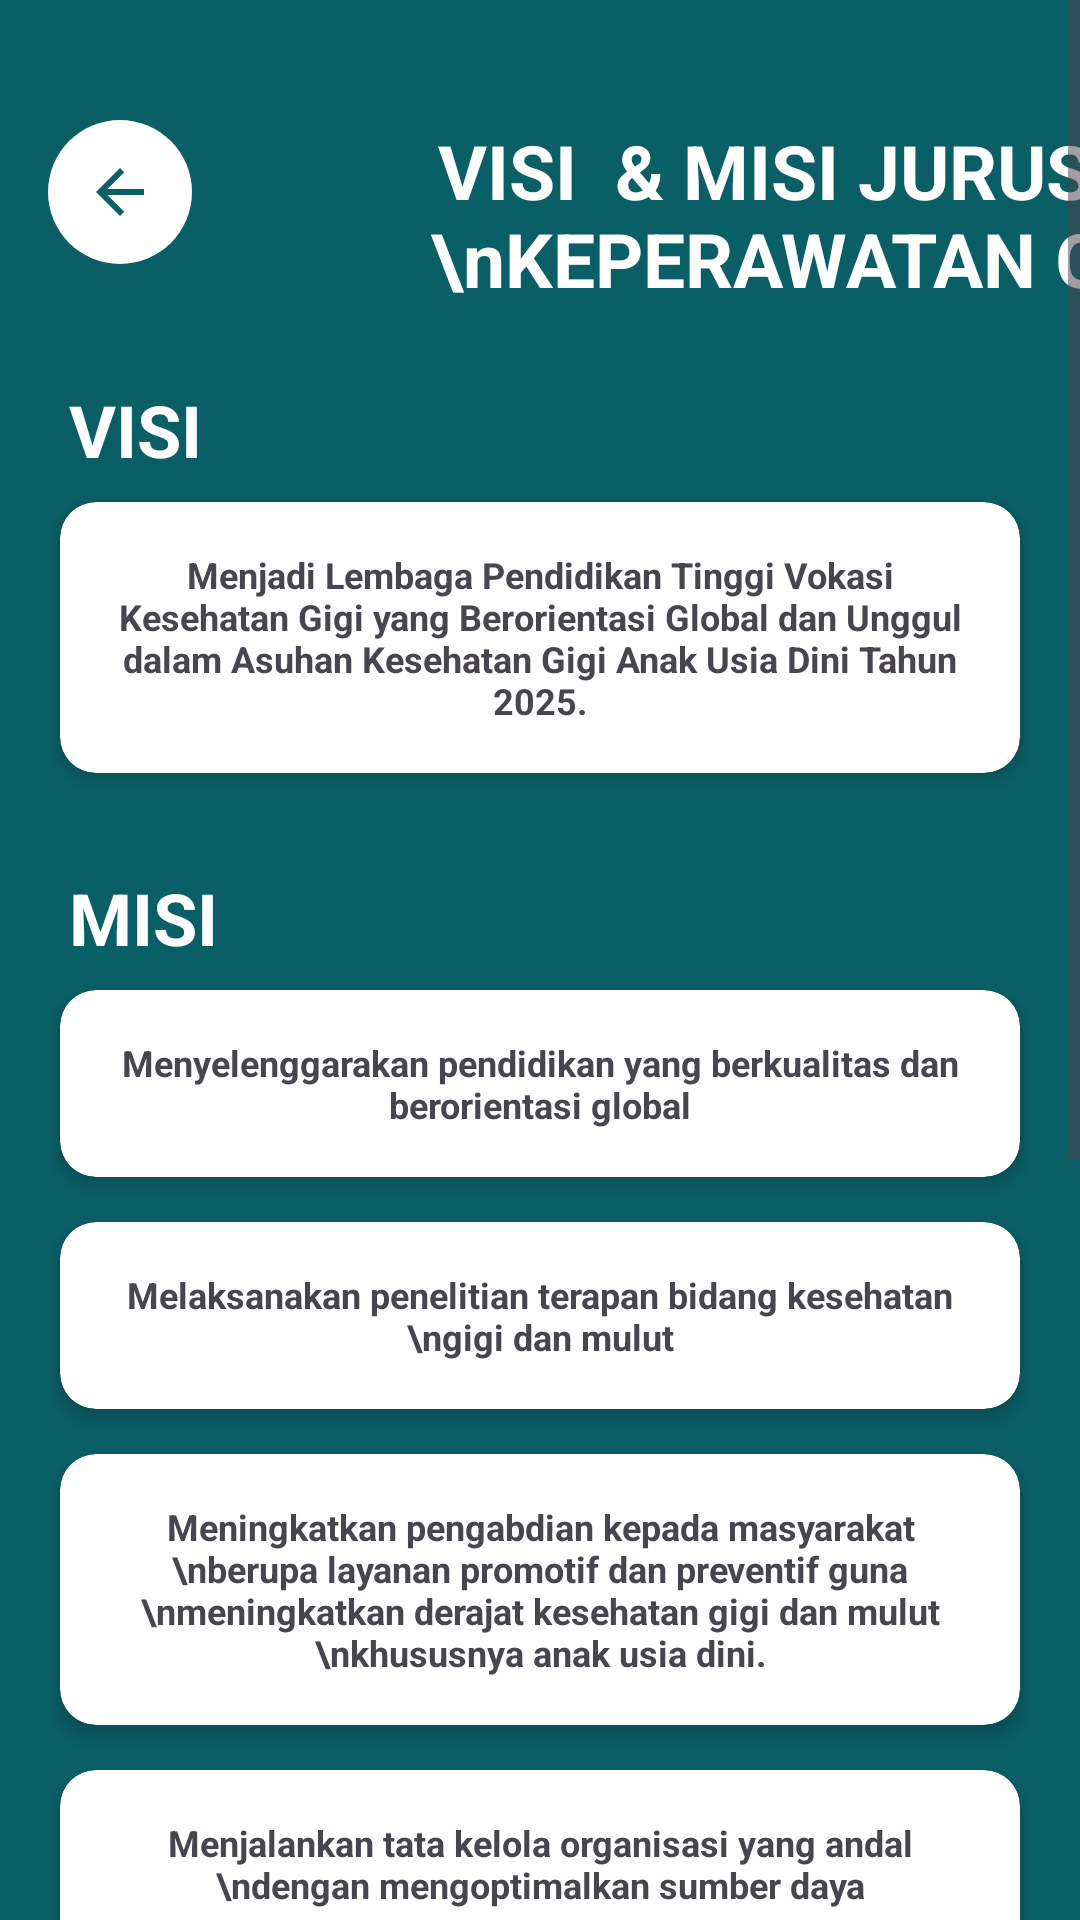

Icon bounding boxes for this 1080px×1920px phone screenshot, format (x1, y1, x2, y2):
back: (48, 120, 192, 264)
